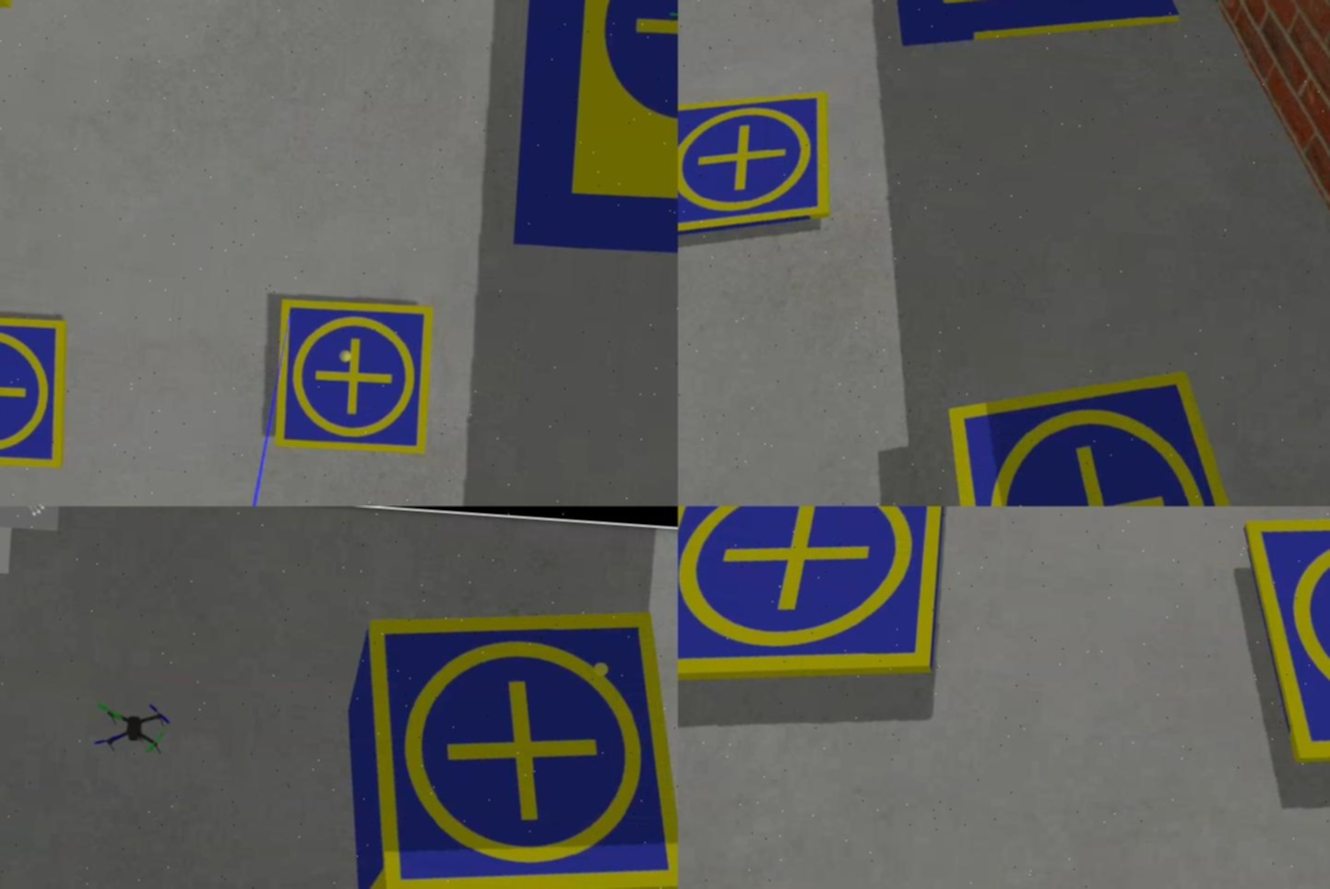large_base: (512, 1, 678, 264), (871, 1, 1191, 68)
small_base: (348, 594, 678, 889), (932, 350, 1284, 506), (678, 506, 954, 702), (678, 77, 841, 256), (269, 295, 438, 462), (1229, 506, 1330, 783), (1, 306, 77, 468)
